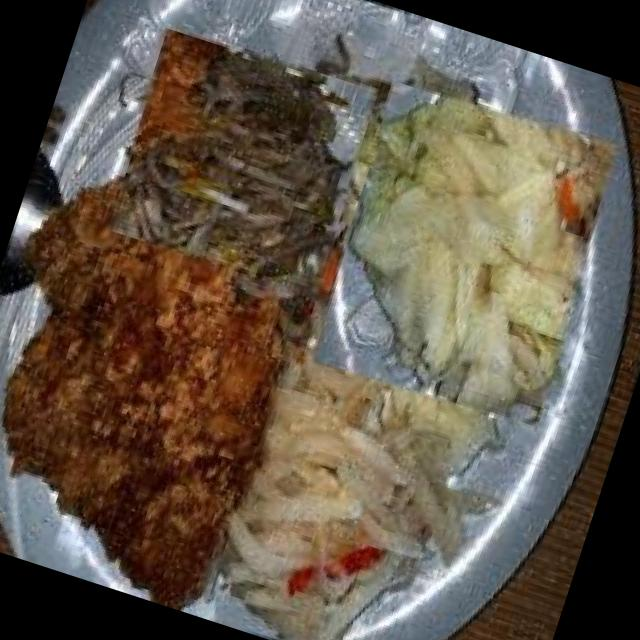chinese_cabbage: (302, 73, 628, 434)
fried_chicken: (0, 160, 336, 622)
mung_bean_sprouts: (104, 19, 386, 300)
